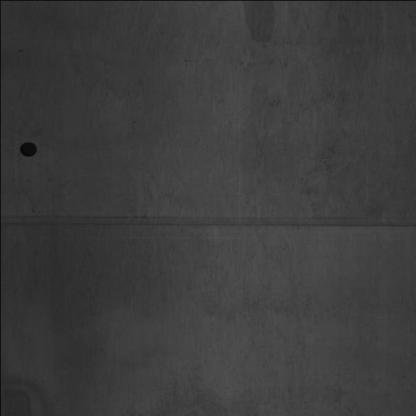punching_hole: (16, 134, 38, 159)
silk_spot: (235, 7, 377, 184)
welding_line: (3, 204, 414, 243)
